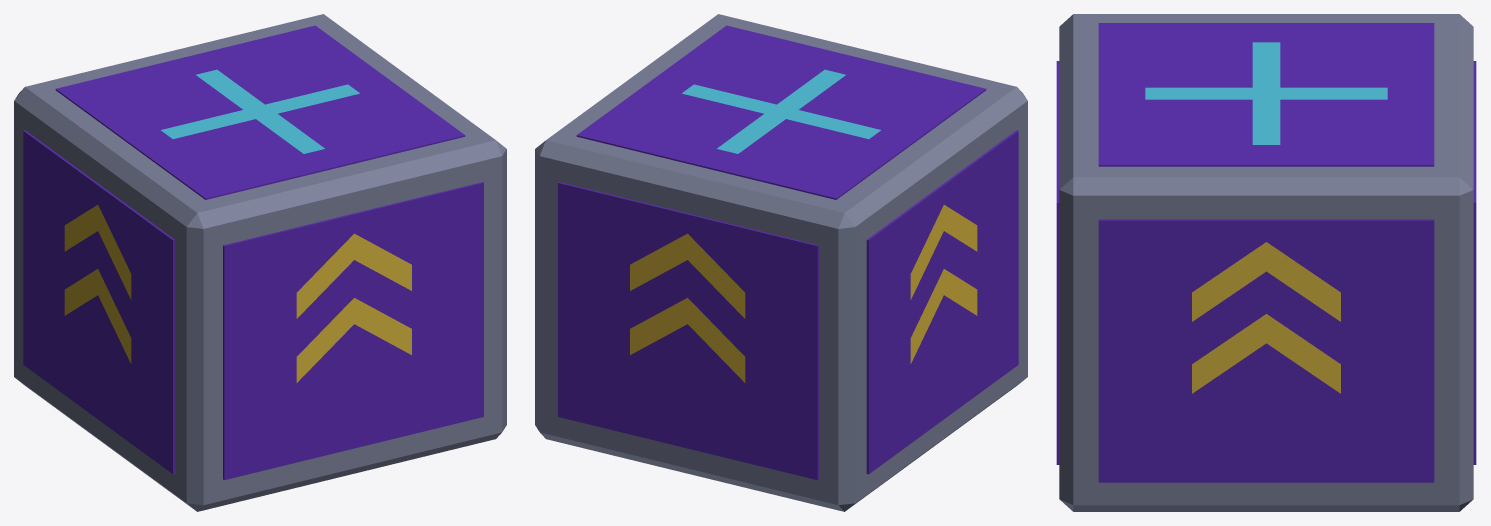
File: space-crate.glb
3 views of the same model, side by side, from view 1: azimuth 30°, elevation 25°; view 2: azimuth 150°, elevation 25°; view 3: azimuth 270°, elevation 25° (orthographic). The views are drawn at different scales.
Visible parts, largest first — view 1: space-crate; view 2: space-crate; view 3: space-crate.
Boxes of the visible parts, left/top/right/bottom form: space-crate: left=14, top=14, right=506, bottom=511; space-crate: left=535, top=14, right=1027, bottom=511; space-crate: left=1056, top=14, right=1476, bottom=511.
Bounding box in the file's own units: 0.901 × 0.8005 × 0.901.
